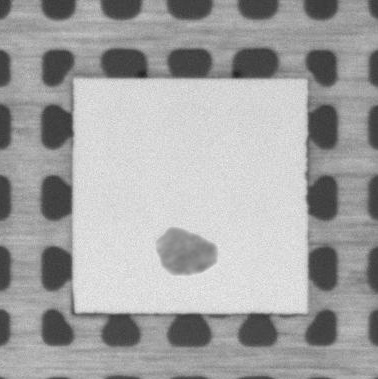DIE_INK: (150, 223, 221, 281)
